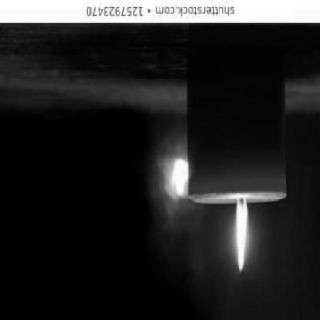Fire: (228, 188, 250, 280), (168, 152, 190, 204)
